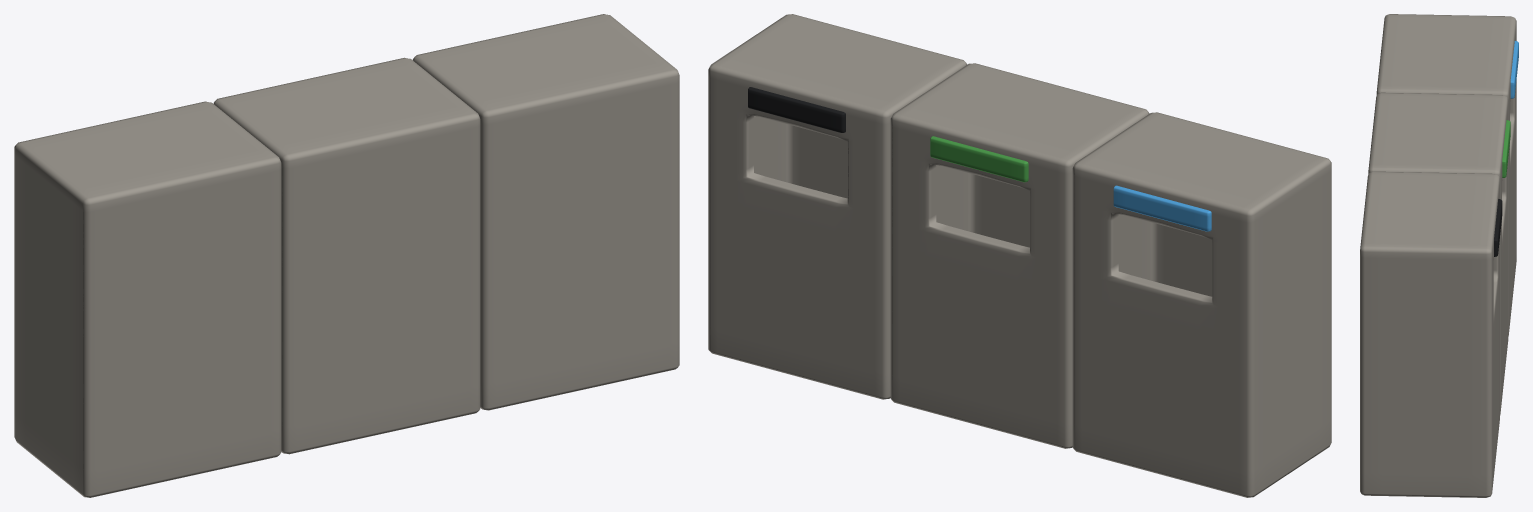
The model's file is metal trashcans.fbx.
3 views of the same model, side by side, from view 1: azimuth 30°, elevation 25°; view 2: azimuth 150°, elevation 25°; view 3: azimuth 270°, elevation 25° (orthographic). The views are drawn at different scales.
Visible parts, largest first — view 1: pCube16, pCube18, pCube14; view 2: pCube16, pCube18, pCube14; view 3: pCube18, pCube14, pCube16.
Part boxes in pixels (x1,y1,x2,y2): pCube16: (14,101,281,497); pCube18: (412,14,679,410); pCube14: (213,57,480,454); pCube16: (1072,112,1331,497); pCube18: (708,14,967,399); pCube14: (890,63,1149,448); pCube18: (1360,171,1502,497); pCube14: (1368,92,1510,415); pCube16: (1376,14,1518,336).
Bounding box in the file's own units: 14.73 × 7.18 × 4.15.
